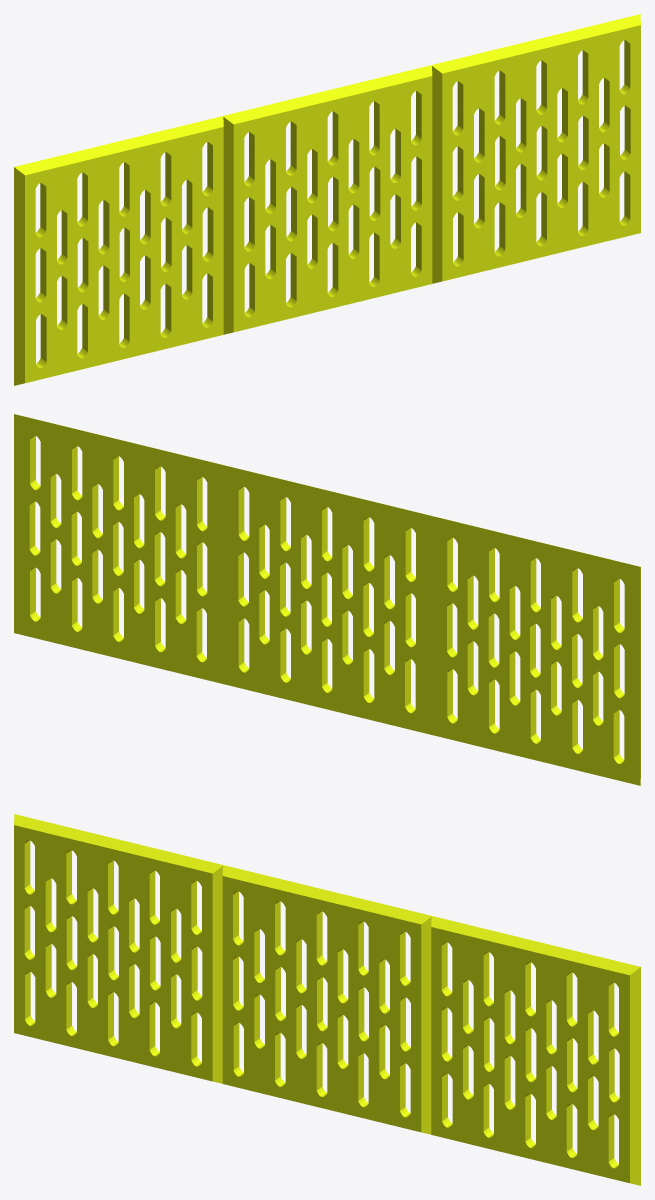
Rendered from Platform4.fbx.
3 views of the same model, one above another, from view 1: azimuth 30°, elevation 25°; view 2: azimuth 150°, elevation 25°; view 3: azimuth 330°, elevation 25° (orthographic).
Visible parts, largest first — view 1: Platform; view 2: Platform; view 3: Platform.
Boxes of the visible parts, x1,y1,x2,y2 form: Platform: (14,14,640,385); Platform: (14,414,640,785); Platform: (14,814,640,1185).
Size of what is drawn, in the model's own units: 6007 by 2006 by 95.99.
